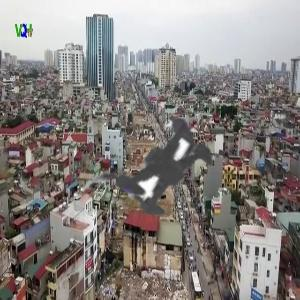drone: (51, 46, 292, 287)
